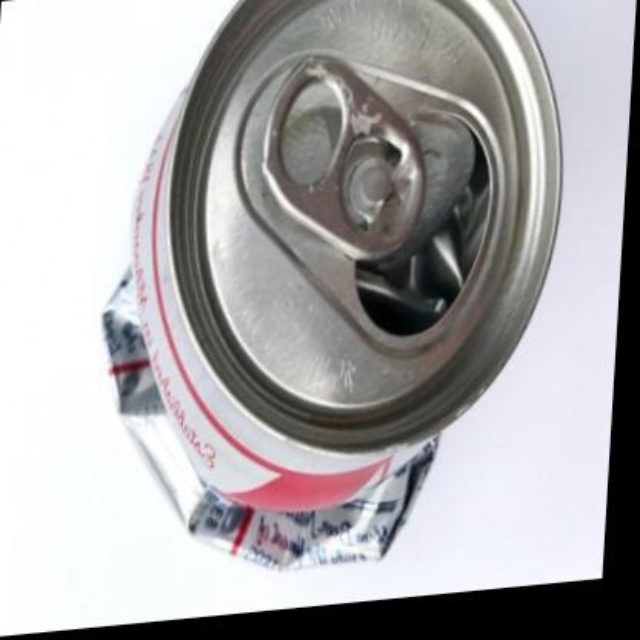trash: (103, 0, 560, 566)
